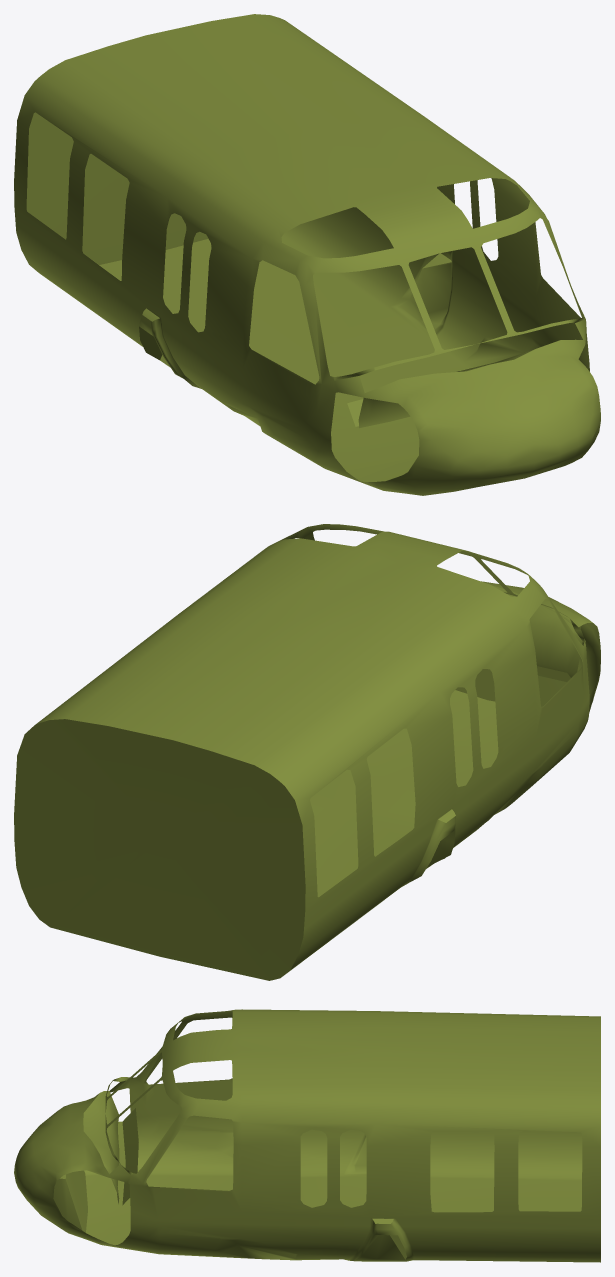
File: m_airlift_b83309c2.glb
3 views of the same model, one above another, from view 1: azimuth 30°, elevation 25°; view 2: azimuth 150°, elevation 25°; view 3: azimuth 270°, elevation 25° (orthographic). The views are drawn at different scales.
Visible parts, largest first — view 1: mesh; view 2: mesh; view 3: mesh.
Boxes of the visible parts, x1,y1,x2,y2 form: mesh: (14, 14, 600, 495); mesh: (14, 524, 600, 980); mesh: (14, 1009, 600, 1262).
Size of the model in its own units: 2703 by 1939 by 5779.
